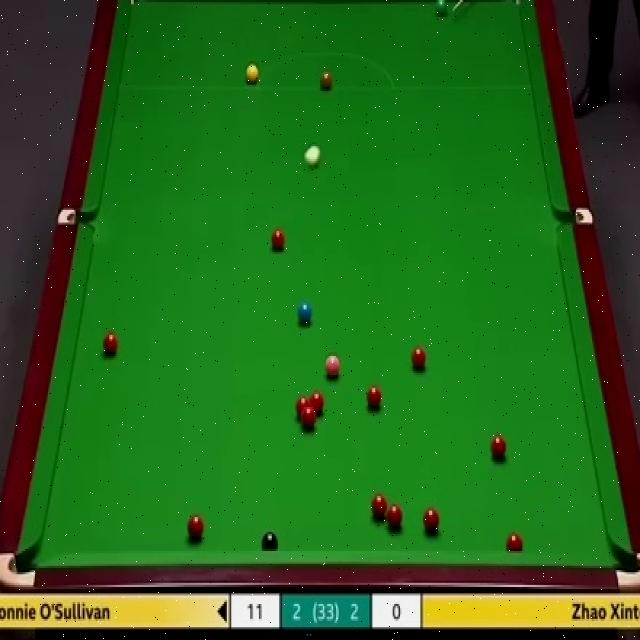black-ball: (261, 531, 280, 553)
blue-ball: (297, 299, 314, 328)
brown-ball: (320, 67, 332, 89)
green-ball: (433, 0, 448, 17)
pink-ball: (324, 355, 342, 381)
red-ball: (422, 508, 441, 537), (363, 382, 382, 410), (186, 513, 204, 541), (370, 494, 388, 521), (491, 434, 509, 460), (411, 345, 428, 372), (101, 330, 118, 356), (296, 396, 310, 422), (505, 532, 524, 550), (310, 392, 324, 416), (272, 226, 284, 254), (388, 506, 402, 529), (302, 410, 317, 430)
white-ball: (305, 144, 320, 164)
yellow-ball: (245, 66, 258, 83)
